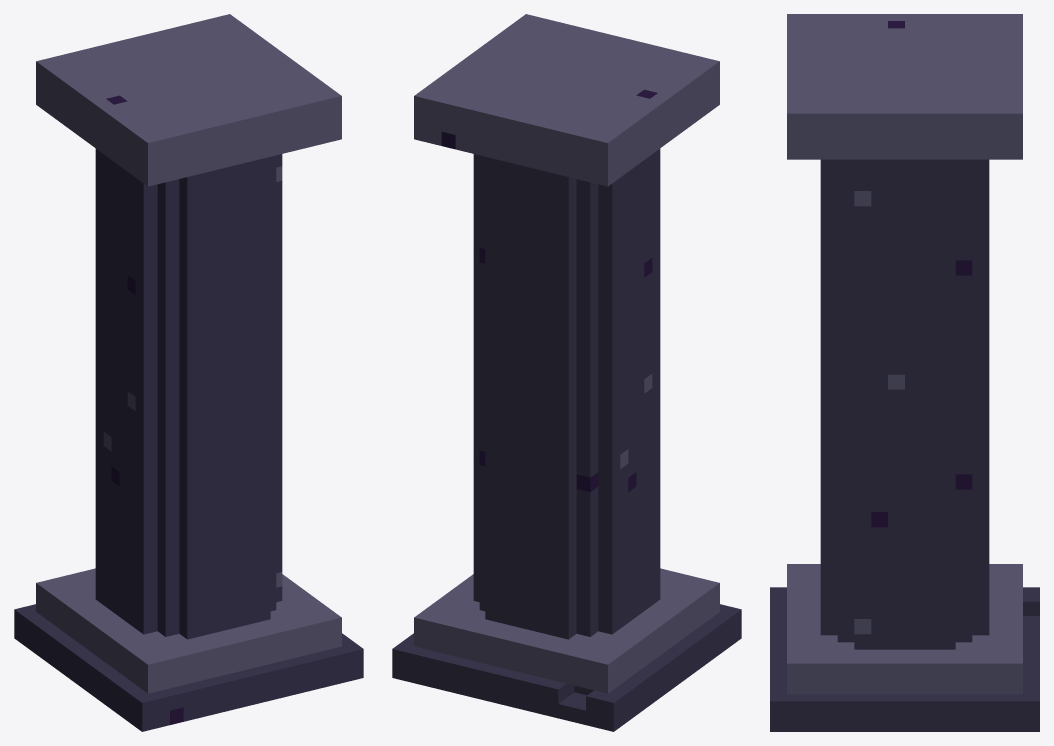
File: pillar_round.obj
3 views of the same model, side by side, from view 1: azimuth 30°, elevation 25°; view 2: azimuth 150°, elevation 25°; view 3: azimuth 270°, elevation 25° (orthographic). The views are drawn at different scales.
Visible parts, largest first — view 1: pillar_round; view 2: pillar_round; view 3: pillar_round.
Boxes of the visible parts, left/top/right/bottom form: pillar_round: left=14, top=14, right=363, bottom=731; pillar_round: left=392, top=14, right=741, bottom=731; pillar_round: left=770, top=14, right=1039, bottom=731.
Size of the model in its own units: 1 by 2.5 by 1.
Materials: 1 (1 with a texture image).
